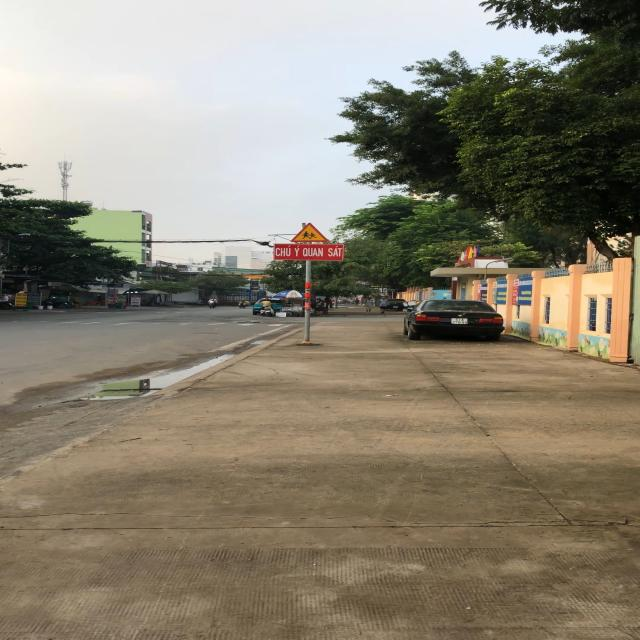Bien bao tre em: (290, 220, 331, 242)
